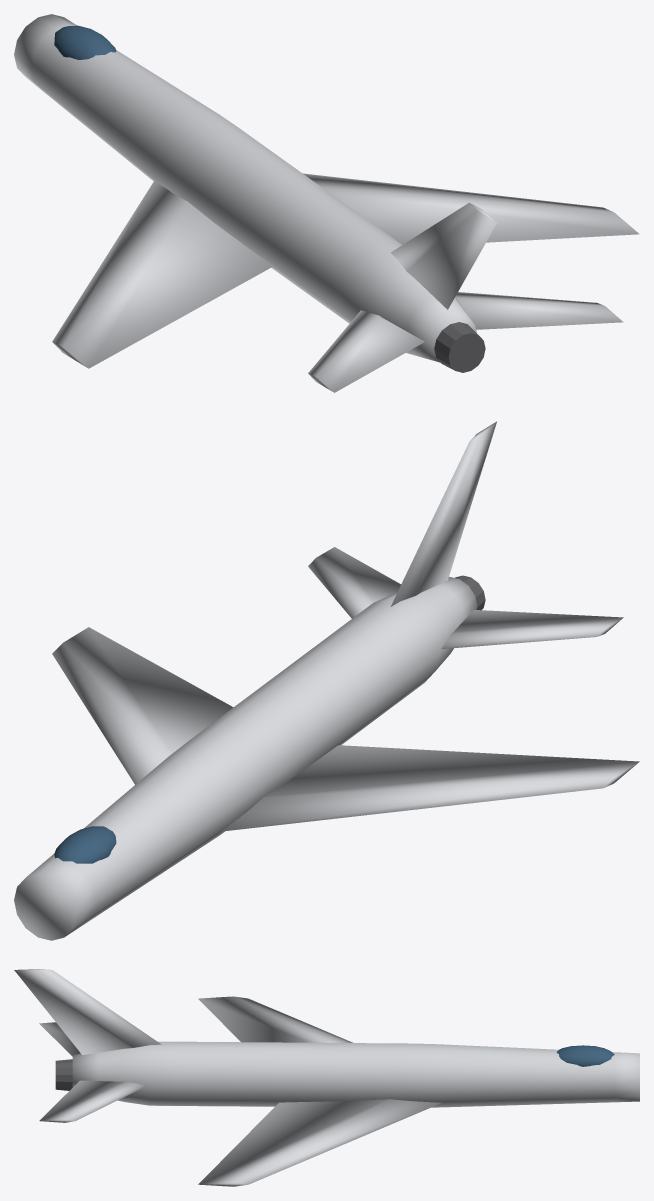
3 views of the same model, one above another, from view 1: azimuth 30°, elevation 25°; view 2: azimuth 150°, elevation 25°; view 3: azimuth 270°, elevation 25° (orthographic). The views are drawn at different scales.
Parts seen in each view (by area): view 1: Body, Detail, Canopy; view 2: Body, Canopy; view 3: Body, Canopy, Detail.
Boxes of the visible parts, x1,y1,x2,y2 form: Body: (14,14,639,392); Detail: (434,322,485,372); Canopy: (54,25,116,59); Body: (14,421,639,940); Canopy: (54,826,116,863); Body: (14,969,639,1186); Canopy: (556,1045,614,1066); Detail: (55,1059,72,1090).
Size of the model in its own units: 1180 by 398 by 1677.
